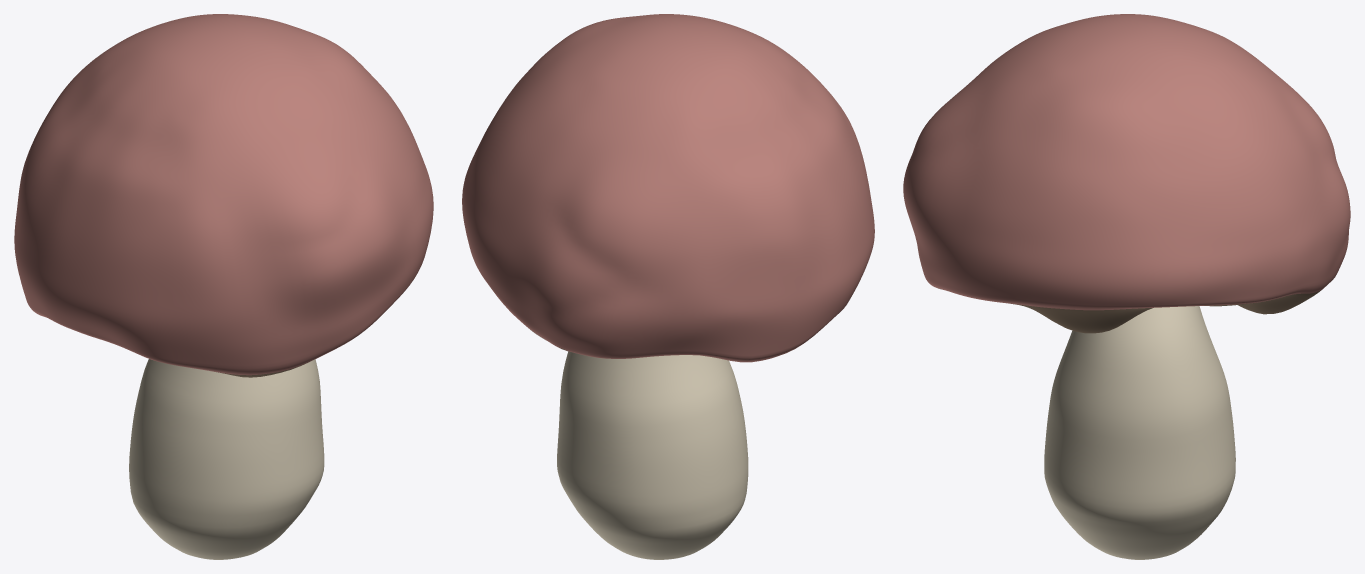
Rendered from Mushroom1.fbx.
3 views of the same model, side by side, from view 1: azimuth 30°, elevation 25°; view 2: azimuth 150°, elevation 25°; view 3: azimuth 270°, elevation 25° (orthographic).
Parts seen in each view (by area): view 1: Head3, Base3; view 2: Head3, Base3; view 3: Head3, Base3.
Boxes of the visible parts, <box> form: Head3: <box>14,14,433,377</box>; Base3: <box>129,359,324,559</box>; Head3: <box>462,14,874,362</box>; Base3: <box>557,351,748,559</box>; Head3: <box>903,14,1350,333</box>; Base3: <box>1044,306,1235,559</box>.
Bounding box in the file's own units: 2.85 × 3.83 × 3.05.
